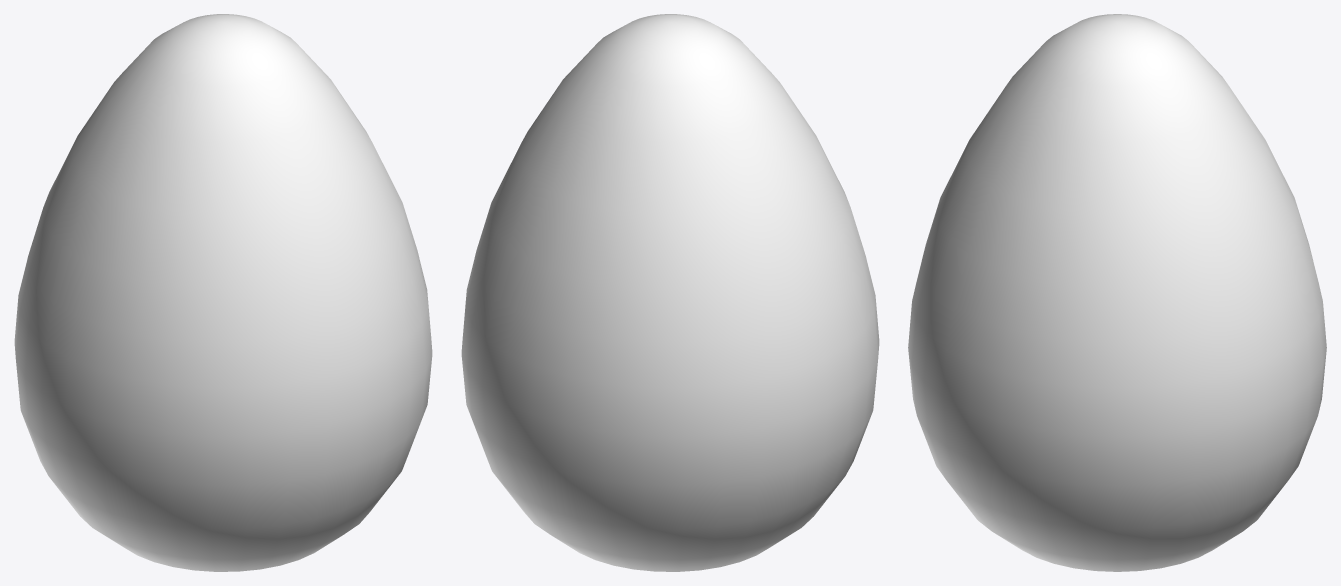
The model's file is Egg.fbx.
The picture shows the model from 3 angles, left to right: view 1: azimuth 30°, elevation 25°; view 2: azimuth 150°, elevation 25°; view 3: azimuth 270°, elevation 25°; orthographic projection.
Visible parts, largest first — view 1: Sphere.001; view 2: Sphere.001; view 3: Sphere.001.
Boxes of the visible parts, x1,y1,x2,y2 form: Sphere.001: (14, 14, 432, 571); Sphere.001: (461, 14, 879, 571); Sphere.001: (908, 14, 1326, 571).
Size of the model in its own units: 49 by 68.46 by 49.
